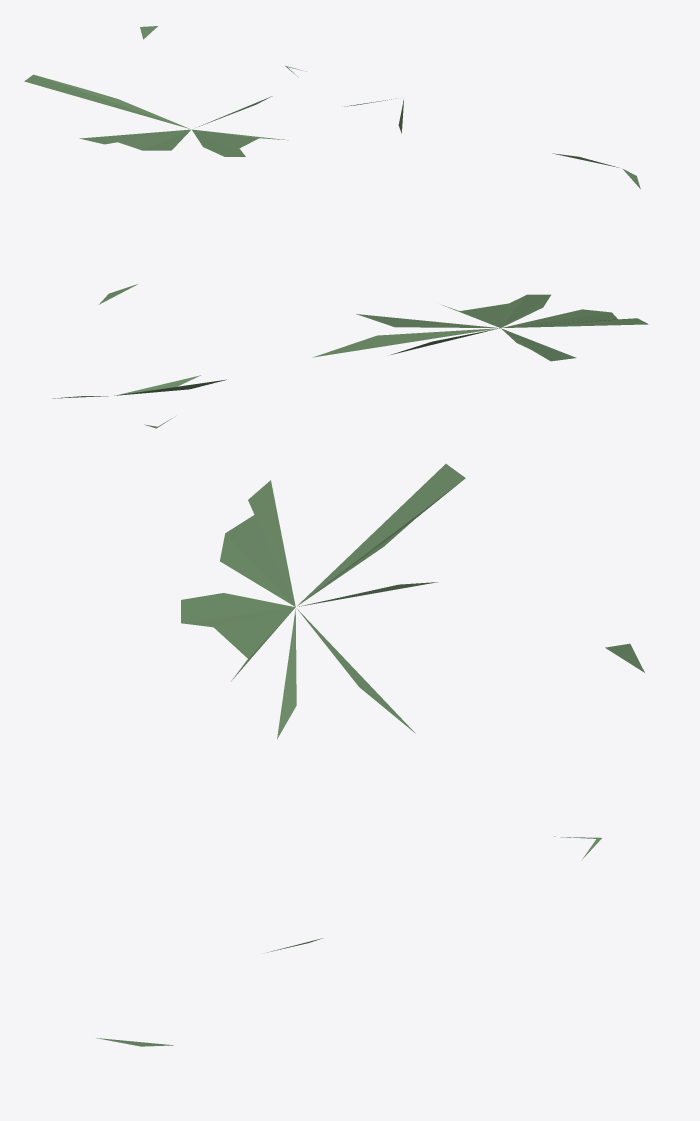
File: c_1667_17818_forest.glb
3 renders of one model, top to bottom at view 1: azimuth 30°, elevation 25°; view 2: azimuth 150°, elevation 25°; view 3: azimuth 270°, elevation 25°, orthographic. The views are drawn at different scales.
Visible parts, largest first — view 1: geometry_0; view 2: geometry_0; view 3: geometry_0.
Part boxes in pixels (x1,y1,x2,y2): geometry_0: (24,26,640,189); geometry_0: (52,284,648,428); geometry_0: (96,464,644,1046).
Bounding box in the file's own units: 349 × 95.08 × 238.
